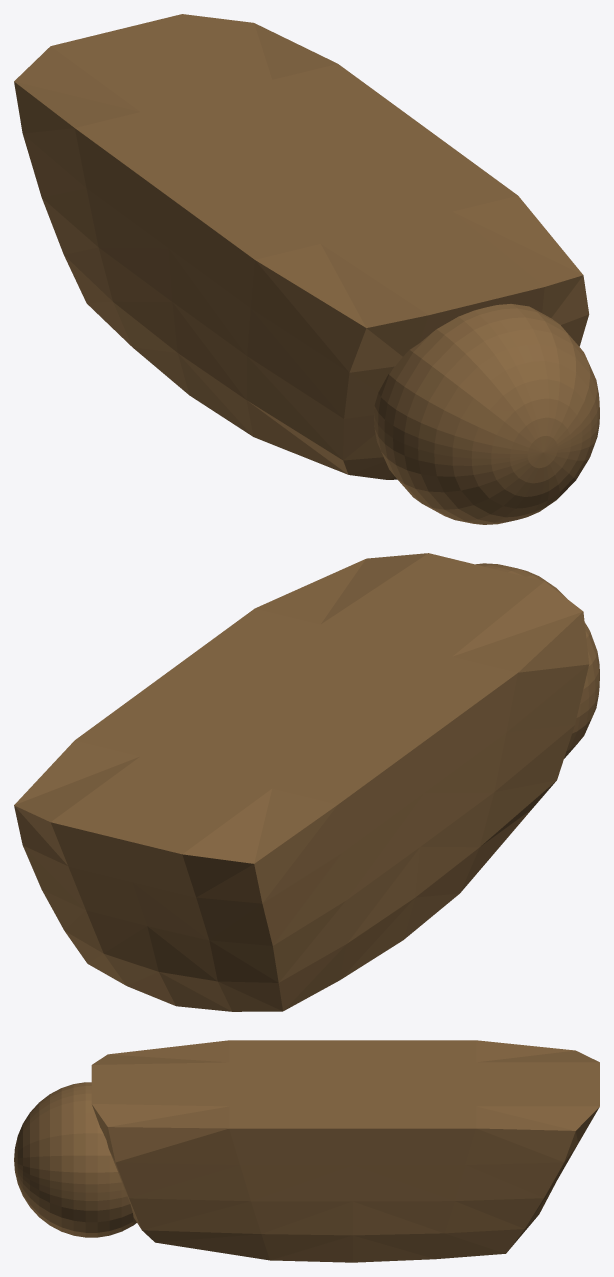
The model's file is RightFingerJoint21y_joint_visu.dae.
3 views of the same model, one above another, from view 1: azimuth 30°, elevation 25°; view 2: azimuth 150°, elevation 25°; view 3: azimuth 270°, elevation 25° (orthographic). The views are drawn at different scales.
Visible parts, largest first — view 1: node; view 2: node; view 3: node.
Part boxes in pixels (x1,y1,x2,y2): node: (14, 14, 599, 524); node: (14, 553, 599, 1011); node: (14, 1040, 599, 1262).
Bounding box in the file's own units: 0.0109 × 0.00867 × 0.0305.
